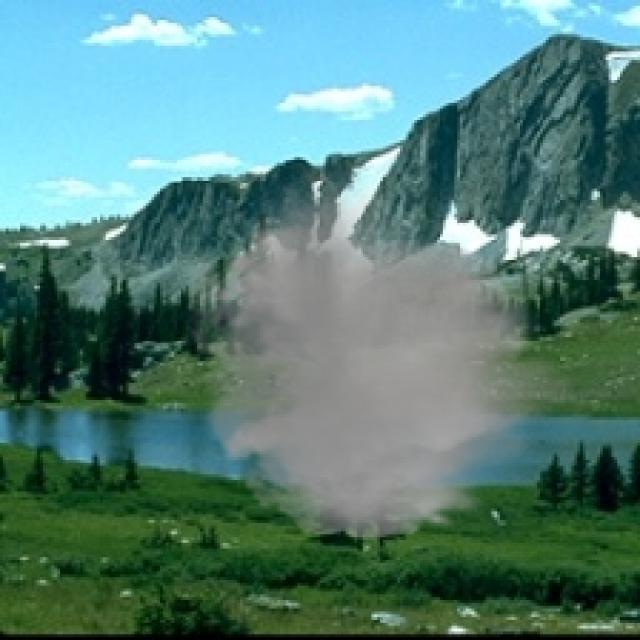Smoke: (171, 166, 583, 548)
